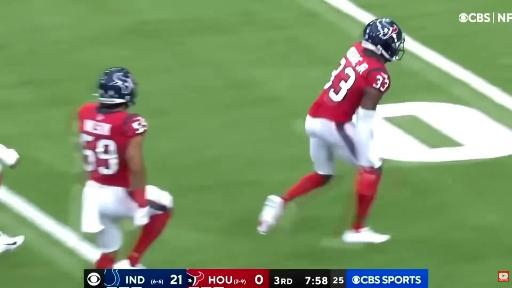Helmet: (362, 19, 404, 61), (99, 67, 136, 105)
Jersey: (309, 43, 390, 122), (79, 103, 147, 188)
Player: (258, 19, 404, 243), (78, 67, 173, 268), (0, 144, 19, 184)
